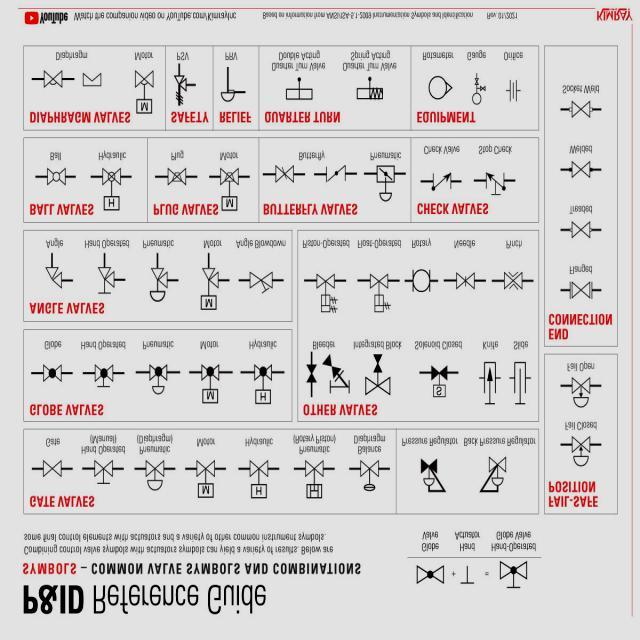Angle Blowdown: (242, 266, 276, 298)
Angle Valve: (36, 260, 68, 294)
BackPressure Regulator: (470, 452, 510, 504)
Balance Diaphragm Gate Valve: (355, 458, 382, 496)
Ball Valve: (39, 163, 70, 191)
Bleeder Valve: (320, 353, 353, 392), (302, 358, 318, 392)
Butterfly Valve: (272, 162, 297, 190), (321, 162, 349, 186)
Check Valve: (420, 170, 458, 196)
Diaphragm Valve: (34, 68, 65, 94), (77, 72, 102, 90)
Fail Closed Safe Position: (556, 433, 604, 471)
Fail Open Safe Position: (554, 373, 604, 418)
Flanged: (564, 276, 596, 310)
Float Operated Valve: (365, 269, 395, 317)
Gate Valve: (41, 458, 63, 482)
Gauge: (465, 70, 490, 108)
Globe Valve: (412, 564, 446, 588), (36, 362, 66, 385)
Hand Operated Angle Valve: (94, 257, 118, 299)
Hand Operated Gate Valve: (89, 458, 117, 489)
Hand Operated Globe Valve: (492, 557, 535, 594), (88, 363, 118, 391)
Hydraulic Operated Ball Valve: (100, 165, 124, 218)
Hydraulic Operated Gate Valve: (247, 456, 272, 501)
Hydraulic Operated Globe Valve: (242, 362, 278, 410)
Integrated Block Valve: (359, 352, 395, 403)
Knife Valve: (478, 361, 502, 408)
Motor Operated Angle Valve: (198, 261, 222, 316)
Motor Operated Diaphragm Valve: (134, 66, 156, 118)
Motor Operated Gate Valve: (194, 460, 217, 504)
Motor Operated Globe Valve: (195, 360, 221, 410)
Motor Operated Plug Valve: (218, 167, 240, 214)
Needle Valve: (450, 270, 479, 292)
Orifice: (504, 72, 524, 107)
PRV: (214, 66, 247, 110)
PSV: (172, 66, 192, 105)
Pinch Valve: (496, 266, 528, 296)
Piston Operated Valve: (313, 268, 339, 316)
Plug Valve: (158, 163, 188, 192)
Pneumatic-Diaphragm Angle Valve: (144, 254, 172, 306)
Pneumatic-Diaphragm Butterfly Valve: (372, 164, 399, 208)
Pneumatic-Diaphragm Gate Valve: (143, 456, 167, 496)
Pneumatic-Diaphragm Globe Valve: (139, 357, 175, 401)
Pressure Regulator: (410, 456, 448, 504)
Quarter Turn Valve Double Acting: (278, 73, 320, 104)
Quarter Turn Valve Spring Acting: (347, 75, 391, 106)
Rotameter: (418, 73, 454, 105)
Rotary Piston-Pneumatic Gate Valve: (296, 458, 328, 505)
Rotary Valve: (406, 268, 436, 296)
Slide Valve: (508, 358, 534, 409)
Socket Weld: (565, 100, 597, 118)
Solenoid Closed Valve: (423, 363, 451, 401)
Stop Valve: (478, 170, 511, 200)
Treaded: (564, 218, 598, 244)
Welded: (569, 158, 594, 182)
